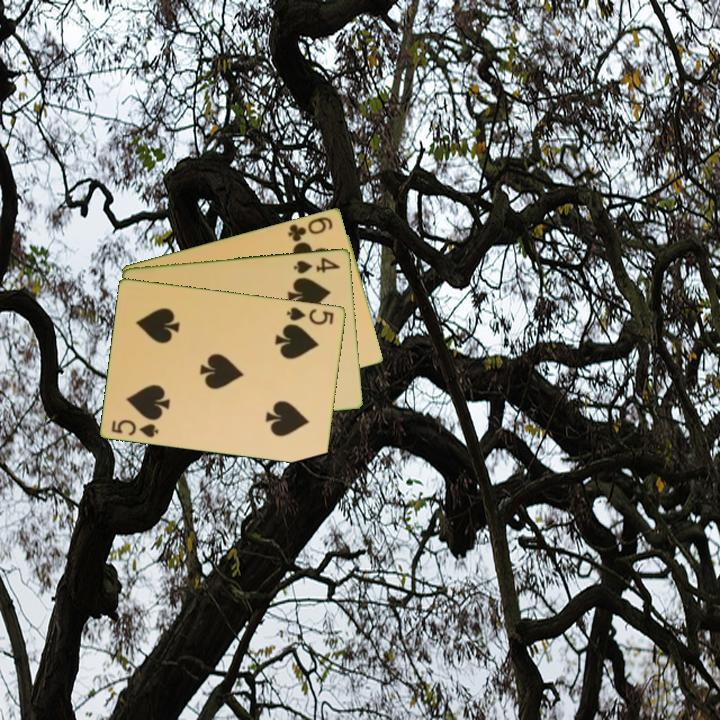4s: (290, 254, 343, 276)
5s: (283, 303, 337, 327), (108, 416, 162, 440)
6c: (284, 213, 336, 244)
